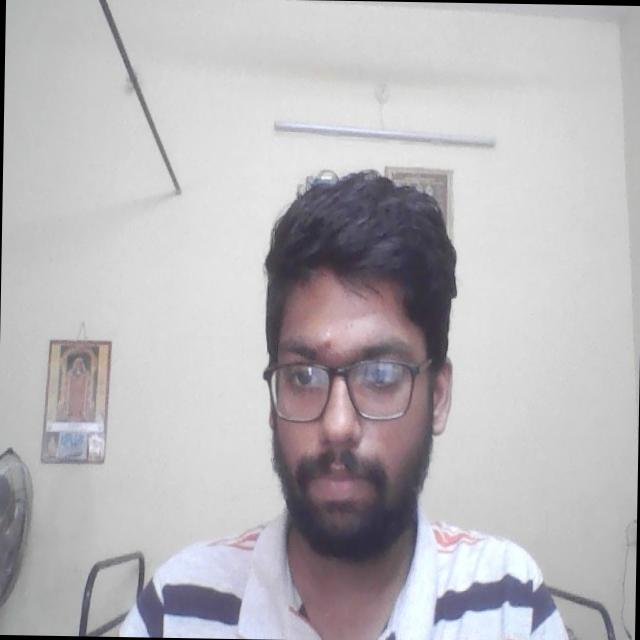Focused: (258, 277, 449, 533)
